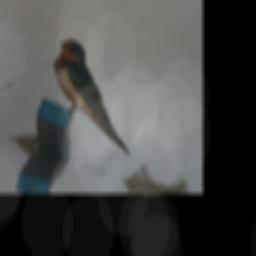Swallow: (34, 33, 156, 157)
